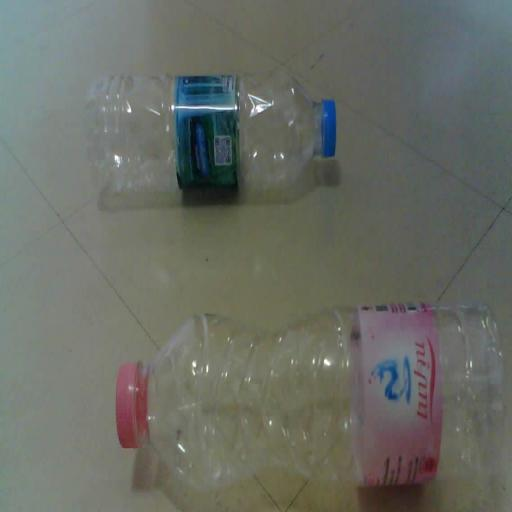bottle: (120, 302, 508, 502), (88, 70, 336, 200)
